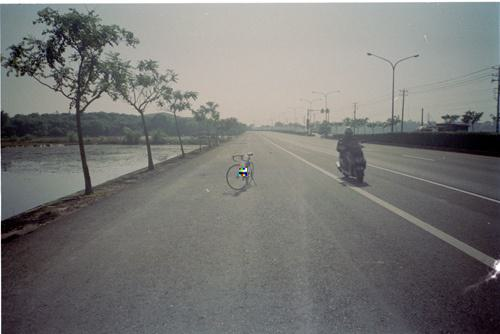car: (224, 151, 262, 194)
motorbike: (336, 126, 369, 188)
person: (337, 128, 363, 165)
